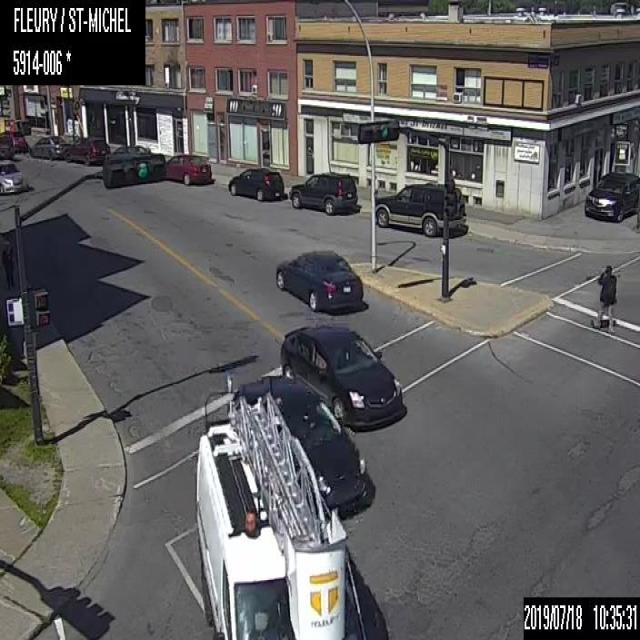pedestrian: (589, 263, 617, 332)
vehicle: (193, 394, 346, 638), (236, 376, 366, 517), (279, 324, 402, 430), (274, 247, 364, 313), (374, 181, 466, 239), (288, 172, 357, 215), (584, 172, 639, 221), (228, 167, 284, 200), (165, 153, 210, 184), (65, 138, 109, 164), (29, 134, 70, 160), (0, 157, 25, 191), (0, 129, 25, 151), (112, 144, 150, 152)
